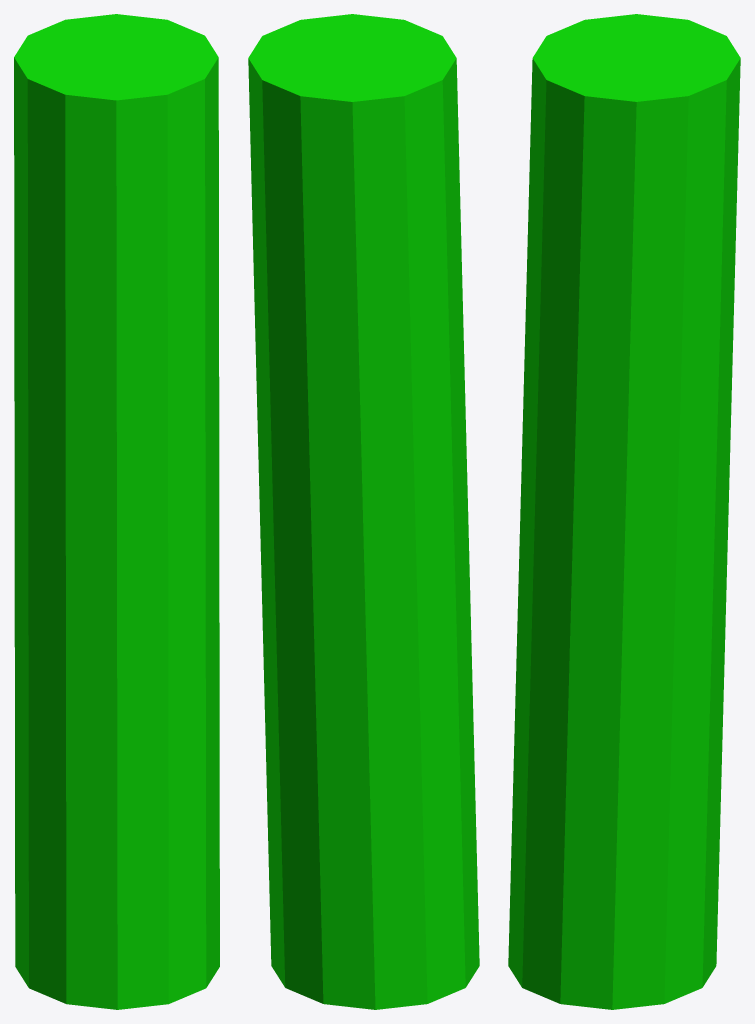
File: sm_collider_007.fbx
3 views of the same model, side by side, from view 1: azimuth 30°, elevation 25°; view 2: azimuth 150°, elevation 25°; view 3: azimuth 270°, elevation 25° (orthographic).
Visible parts, largest first — view 1: sm_collider.007; view 2: sm_collider.007; view 3: sm_collider.007.
Part boxes in pixels (x1=…): sm_collider.007: x1=14, y1=14, x2=219, y2=1009; sm_collider.007: x1=248, y1=14, x2=479, y2=1009; sm_collider.007: x1=508, y1=14, x2=740, y2=1009.
Bounding box in the file's own units: 201 × 916 × 211.
